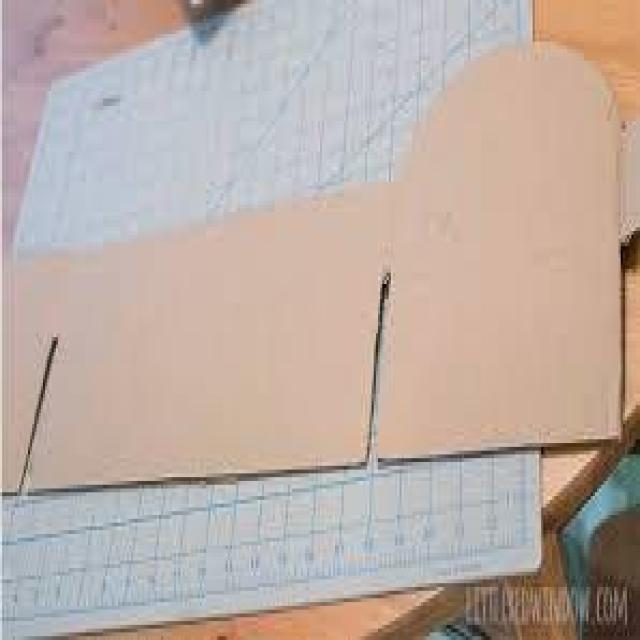PaperCardboard: (0, 47, 639, 456)
